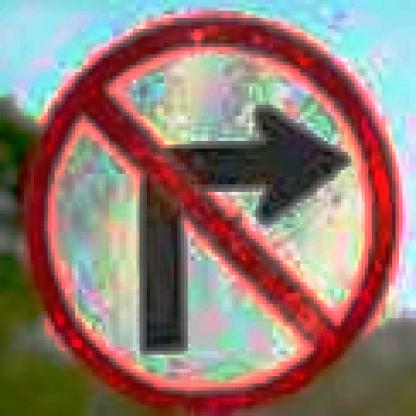No right turn: (21, 14, 402, 413)
